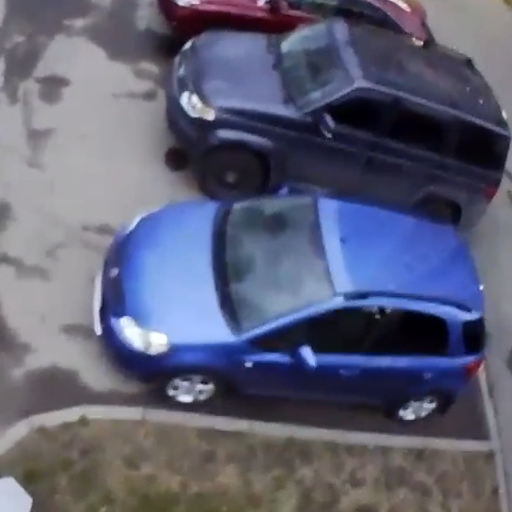Car: (87, 187, 484, 431), (167, 23, 503, 233), (150, 0, 437, 64)
